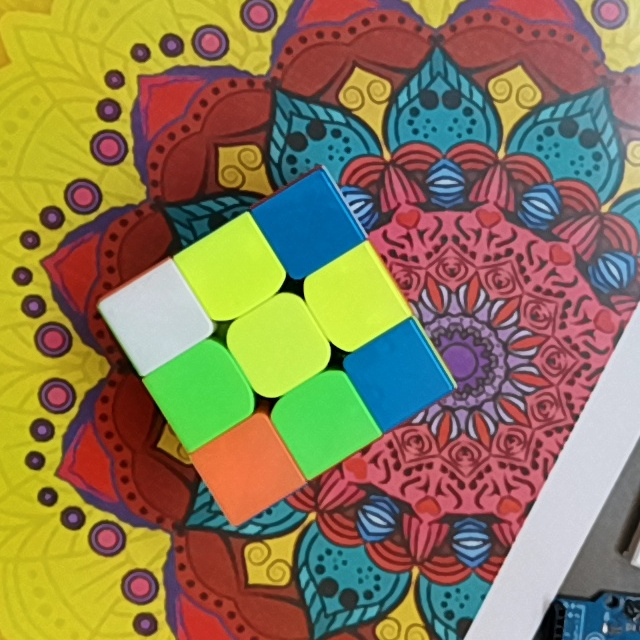tile: (249, 316, 310, 377), (218, 439, 277, 501), (325, 268, 384, 329), (170, 364, 232, 422), (201, 243, 260, 301), (276, 198, 336, 255), (370, 344, 426, 405), (296, 390, 353, 449), (129, 289, 187, 346)
